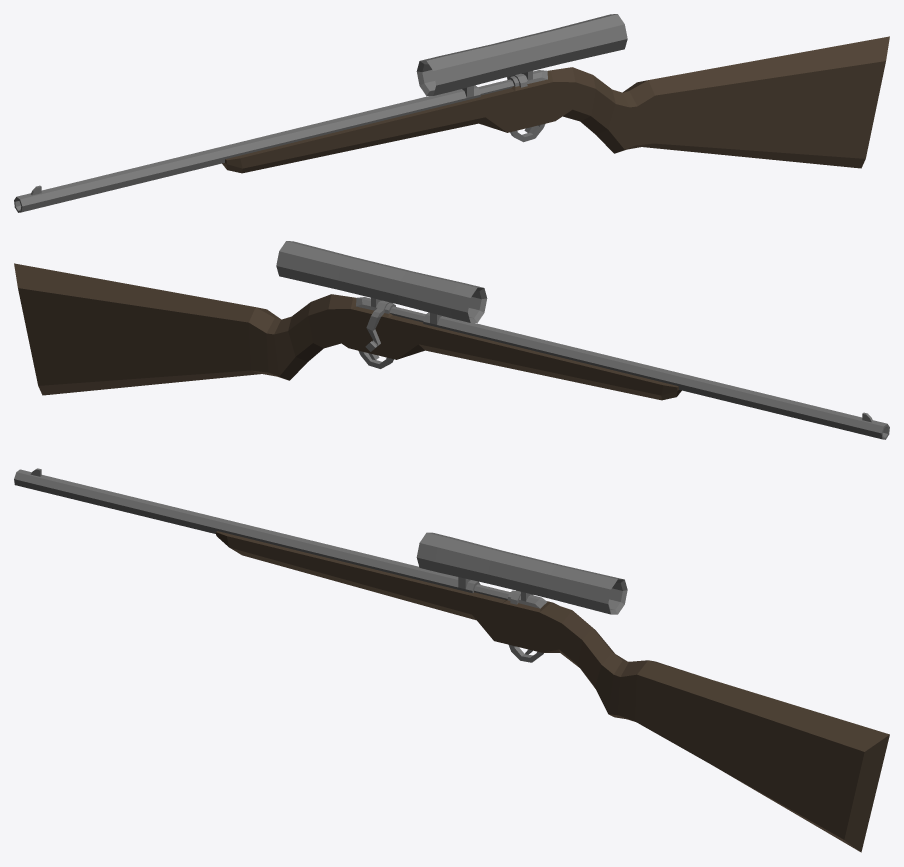
File: RifleScope.fbx
The picture shows the model from 3 angles, top to bottom: view 1: azimuth 30°, elevation 25°; view 2: azimuth 150°, elevation 25°; view 3: azimuth 330°, elevation 25°; orthographic projection.
Parts seen in each view (by area): view 1: RifleScopeModel; view 2: RifleScopeModel; view 3: RifleScopeModel.
Boxes of the visible parts, left/top/right/bottom form: RifleScopeModel: left=14, top=14, right=889, bottom=212; RifleScopeModel: left=14, top=241, right=889, bottom=439; RifleScopeModel: left=14, top=468, right=889, bottom=852.
Bounding box in the file's own units: 117 × 27.44 × 5.83.
